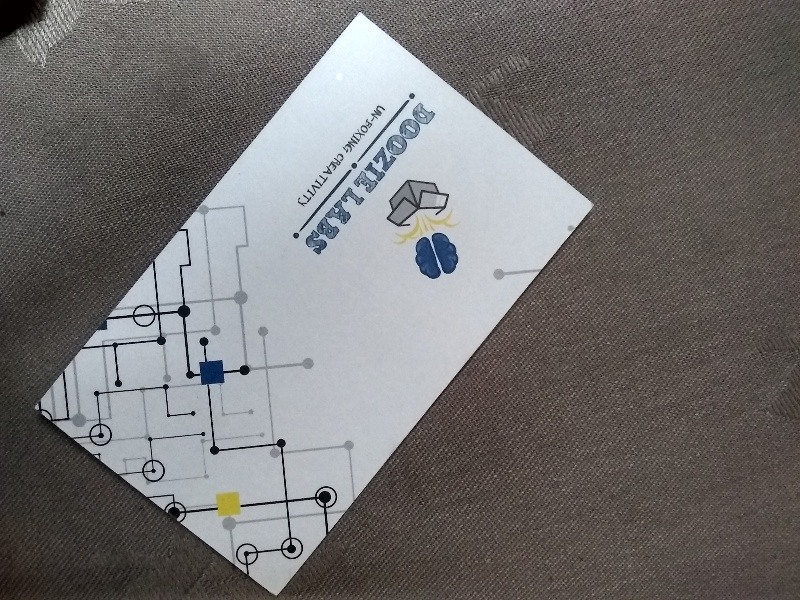back: (32, 9, 597, 594)
